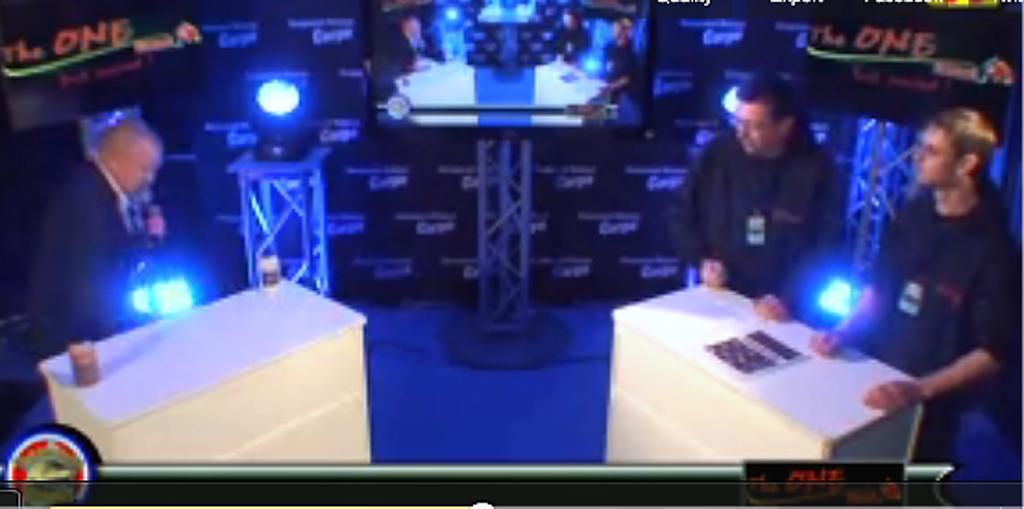face: (914, 132, 955, 184), (736, 103, 775, 155), (119, 151, 155, 192)
